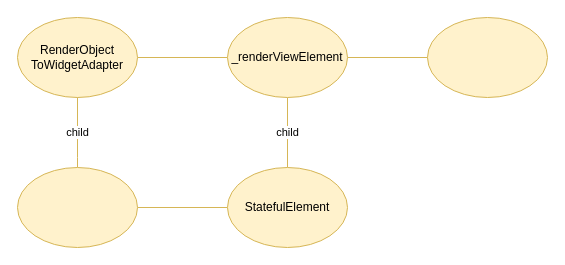
Image size: 565x265. Some labels were removed from this diagram. Each missing label, with the box of its shape:
MyApp: (16, 166, 138, 248)
renderView: (426, 16, 548, 98)
